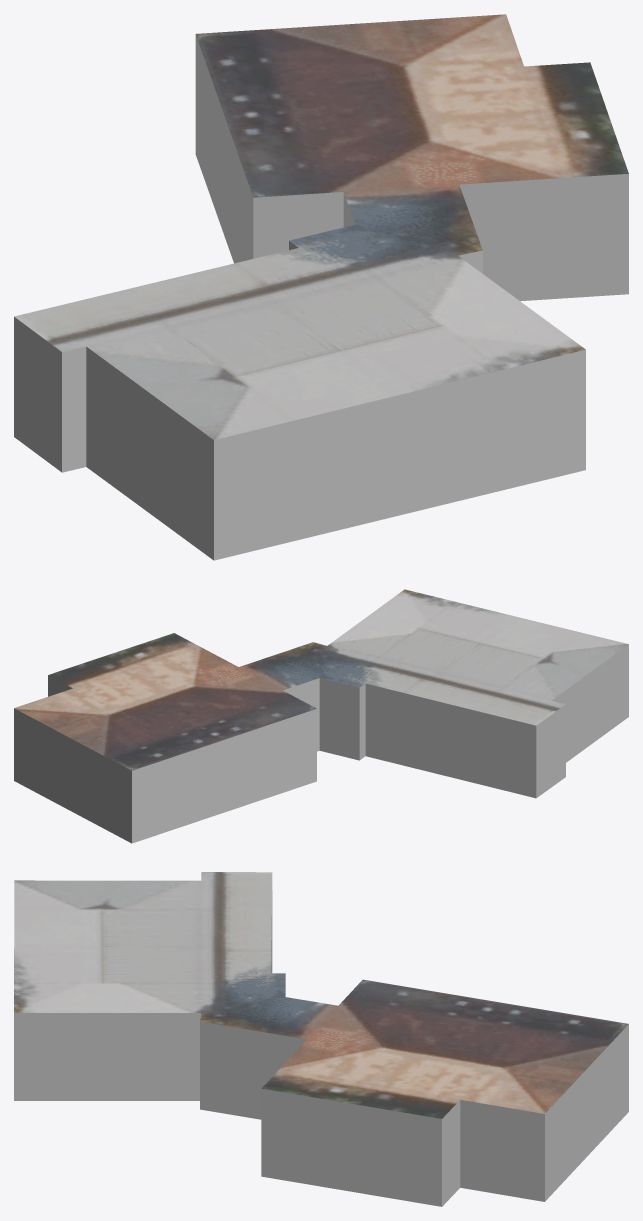
Rendered from DEBW_0010007TxeI.gltf.
3 renders of one model, top to bottom at view 1: azimuth 30°, elevation 25°; view 2: azimuth 150°, elevation 25°; view 3: azimuth 270°, elevation 25°, orthographic. The views are drawn at different scales.
Visible parts, largest first — view 1: Z_UP; view 2: Z_UP; view 3: Z_UP.
Boxes of the visible parts, x1=… form: Z_UP: x1=14, y1=14, x2=628, y2=560; Z_UP: x1=14, y1=589, x2=628, y2=843; Z_UP: x1=14, y1=872, x2=628, y2=1206.
Bounding box in the file's own units: 51.61 × 8.57 × 54.31.
2 materials, 1 textured.
